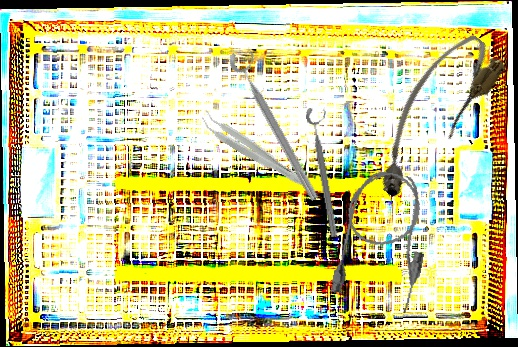Cannula: (352, 24, 512, 206), (328, 166, 439, 315)
Fixation Ring: (225, 44, 332, 204), (304, 105, 349, 238)
Tissue Forceps: (196, 108, 310, 190)
